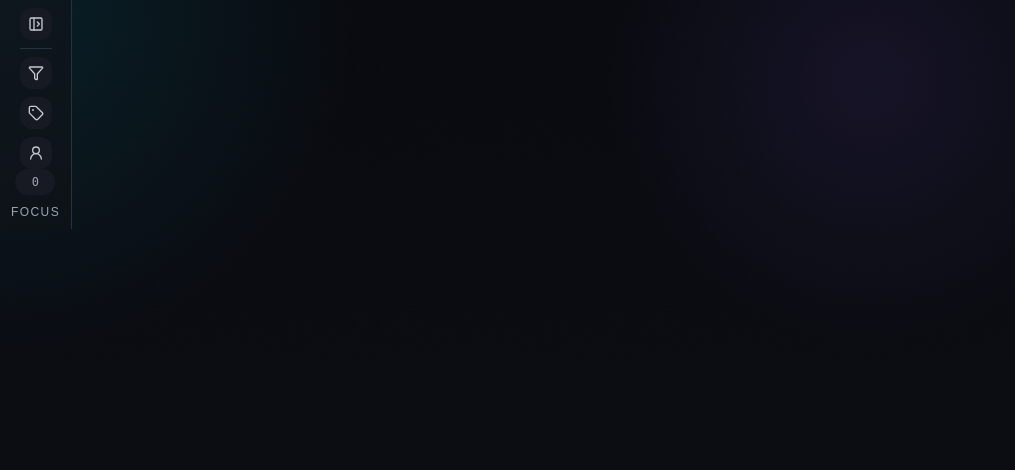
Test: FilterSidebar › expands only the tags section when the tags rail button is clicked
What coordinates should you click on to do the following:
click the button named "Expand tags"
I would click on:
 (36, 113)
Its box is [20,97,52,129].
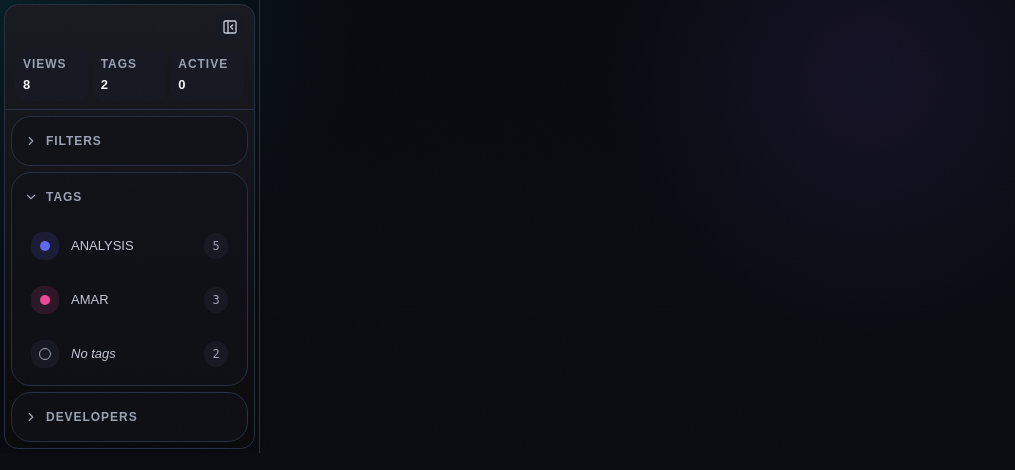
Now the text "ANALYSIS" is shown, box [71,236,134,255]
